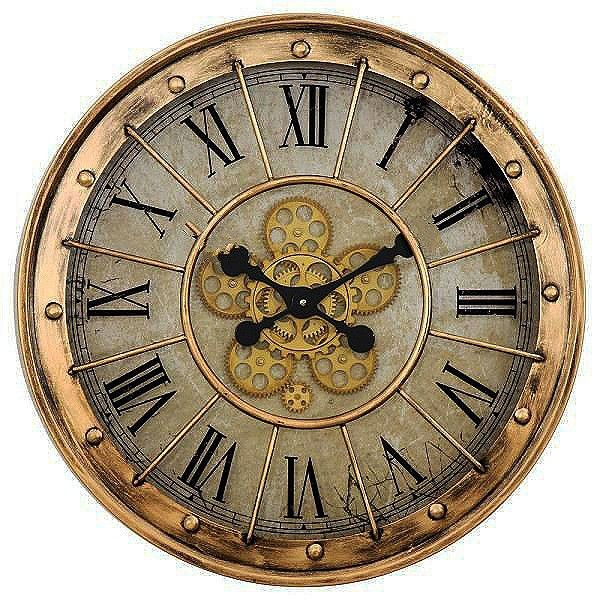clock: (10, 5, 600, 595)
